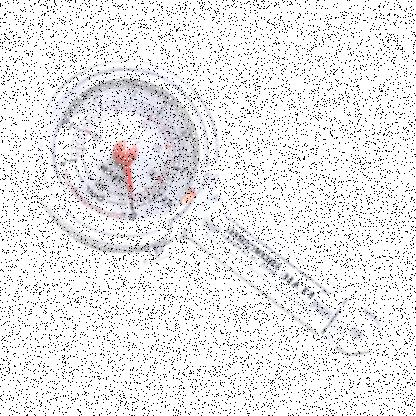needle: (122, 164, 137, 216)
